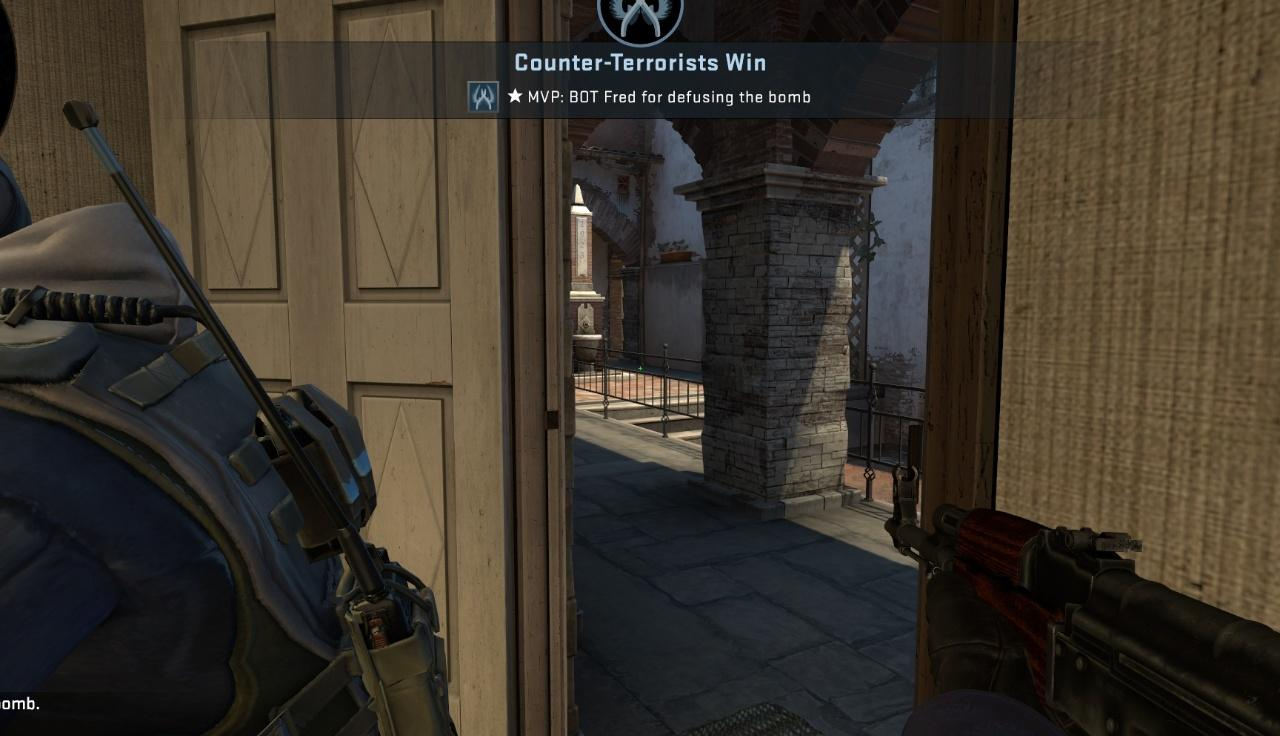ct: (0, 151, 459, 735)
rifle: (885, 465, 1280, 734)
